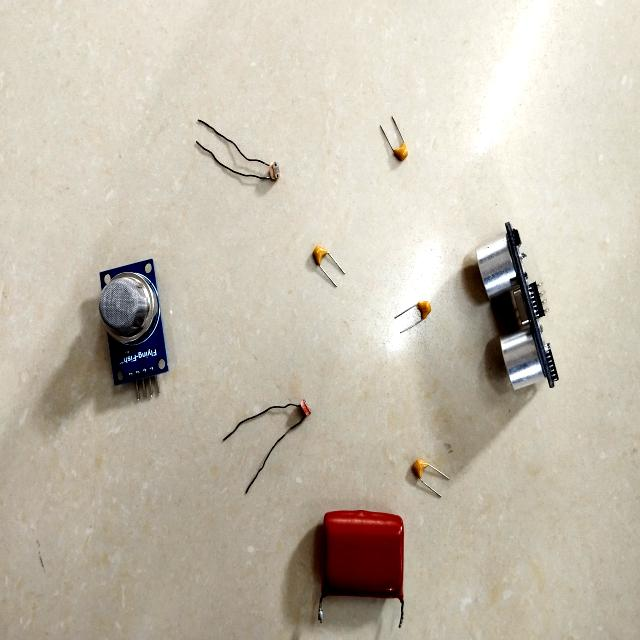capacitor: (317, 510, 404, 598), (312, 248, 327, 265), (393, 144, 408, 161), (417, 301, 431, 319), (411, 462, 426, 478)
